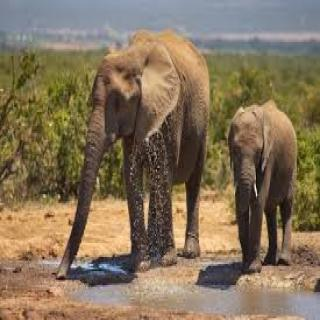Elephant: (50, 21, 212, 275), (226, 86, 301, 282)
